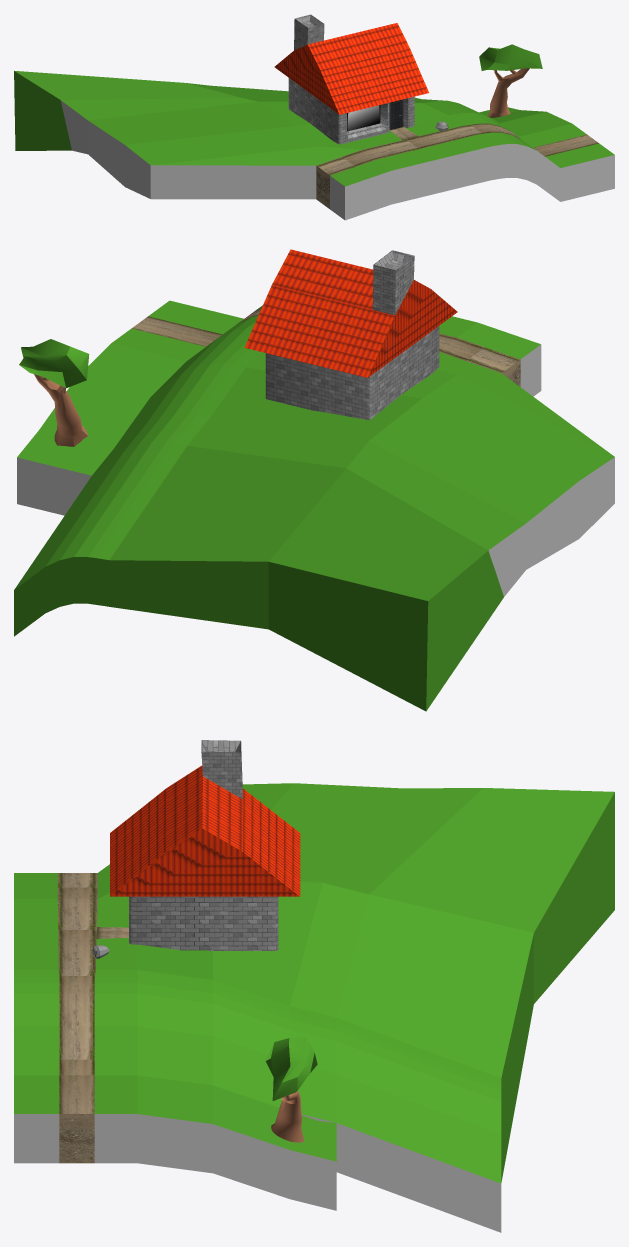
File: town.fbx
3 renders of one model, top to bottom at view 1: azimuth 30°, elevation 25°; view 2: azimuth 150°, elevation 25°; view 3: azimuth 270°, elevation 25°, orthographic. The views are drawn at different scales.
Parts seen in each view (by area): view 1: Mesh, Mesh (3), Mesh (2), Mesh (2) (2) (4), Mesh (3) (4); view 2: Mesh, Mesh (3), Mesh (2), Mesh (2) (2) (4), Mesh (3) (4); view 3: Mesh, Mesh (3), Mesh (2), Mesh (2) (2) (4), Mesh (3) (4).
Part boxes in pixels (<box>): Mesh: <box>14,70,560,220</box>; Mesh (3): <box>274,14,428,144</box>; Mesh (2): <box>479,107,614,201</box>; Mesh (2) (2) (4): <box>479,44,542,70</box>; Mesh (3) (4): <box>487,68,529,117</box>; Mesh: <box>14,305,614,711</box>; Mesh (3): <box>244,249,457,419</box>; Mesh (2): <box>17,300,243,515</box>; Mesh (2) (2) (4): <box>19,339,89,388</box>; Mesh (3) (4): <box>34,374,87,446</box>; Mesh: <box>14,783,614,1232</box>; Mesh (3): <box>110,740,300,950</box>; Mesh (2): <box>14,1075,336,1210</box>; Mesh (2) (2) (4): <box>265,1037,317,1100</box>; Mesh (3) (4): <box>271,1091,304,1142</box>.
Bounding box in the file's own units: 22482 × 12919 × 19570.
